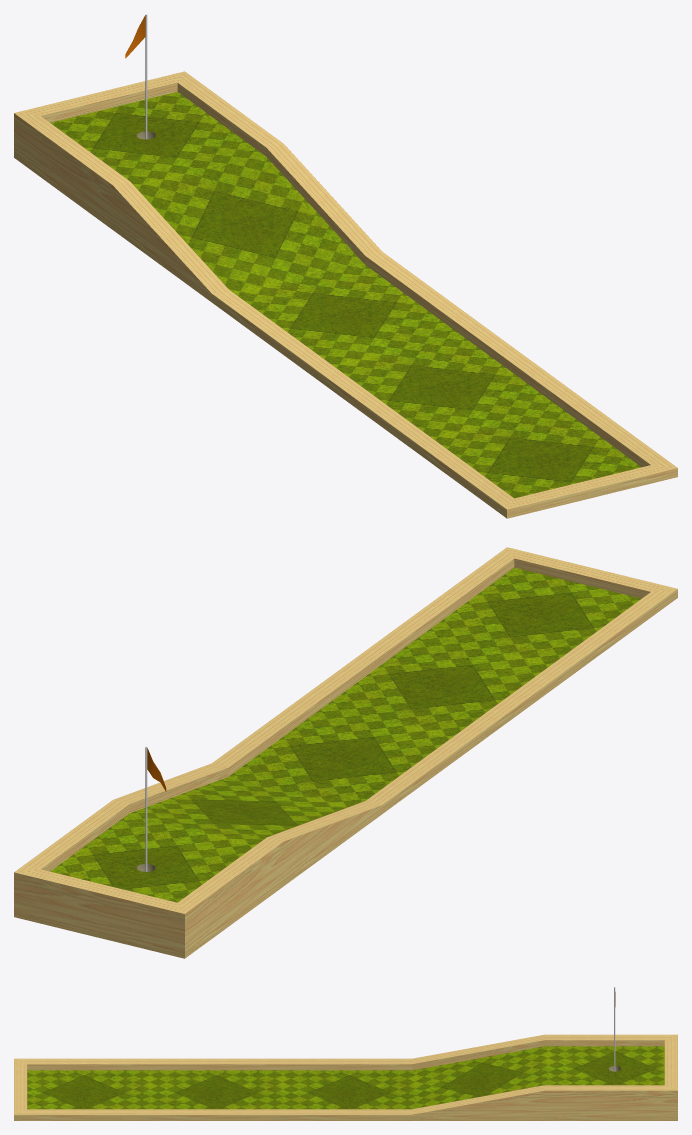
File: course1_hole3.fbx
3 renders of one model, top to bottom at view 1: azimuth 30°, elevation 25°; view 2: azimuth 150°, elevation 25°; view 3: azimuth 270°, elevation 25°, orthographic. The views are drawn at different scales.
Parts seen in each view (by area): view 1: course1_hole3_ground, course1_hole3_walls; view 2: course1_hole3_ground, course1_hole3_walls, course1_hole3_flag; view 3: course1_hole3_ground, course1_hole3_walls.
Boxes of the visible parts, x1,y1,x2,y2 form: course1_hole3_ground: (50, 91, 641, 498); course1_hole3_walls: (14, 71, 677, 518); course1_hole3_ground: (50, 567, 641, 902); course1_hole3_walls: (14, 547, 677, 958); course1_hole3_flag: (145, 746, 166, 871); course1_hole3_ground: (27, 1046, 664, 1109); course1_hole3_walls: (14, 1034, 677, 1120).
Bounding box in the file's own units: 3 × 2.63 × 15.
